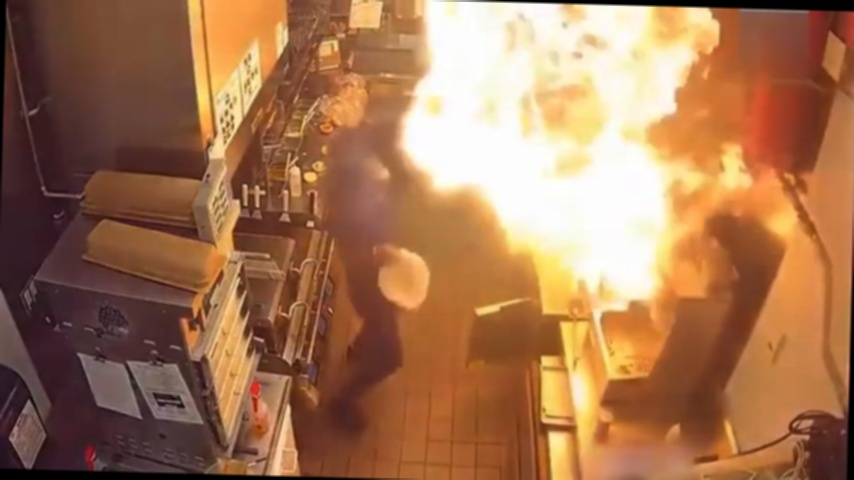fire: (393, 0, 758, 309)
